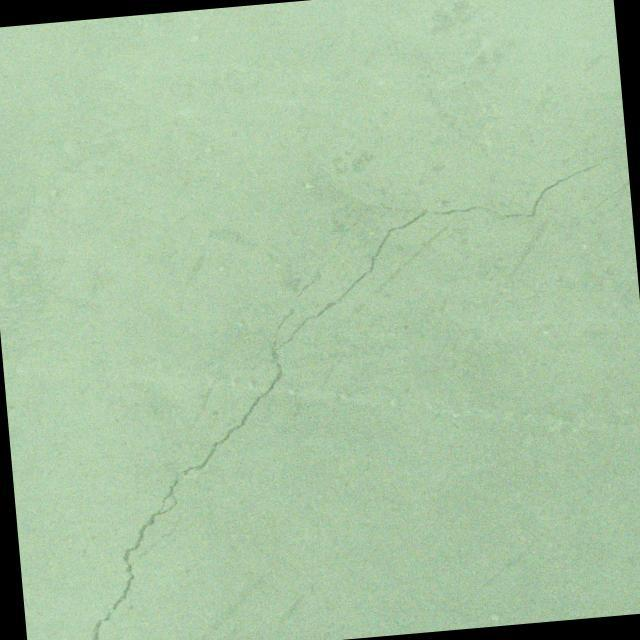crack: (13, 153, 640, 640), (285, 203, 396, 265), (292, 254, 340, 298), (584, 178, 632, 215)
